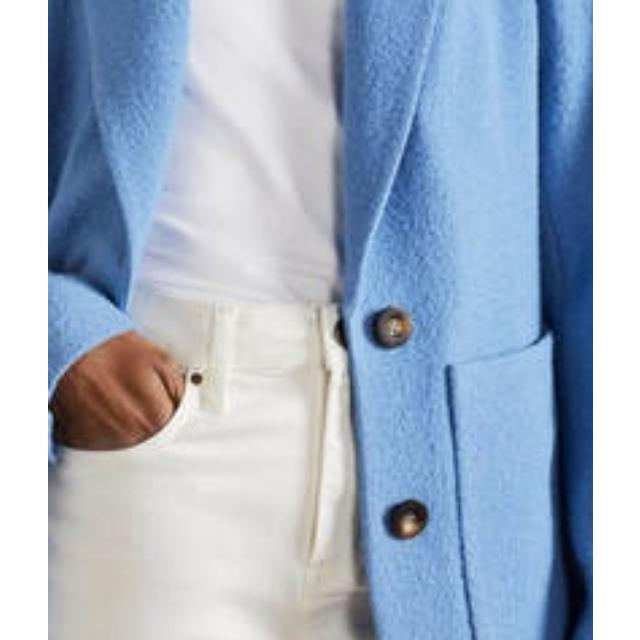wool: (48, 0, 592, 640)
